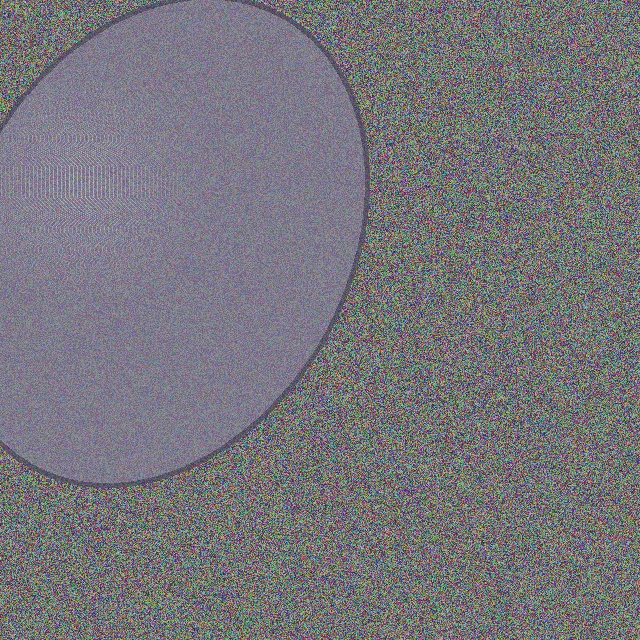lens: (0, 0, 366, 483)
